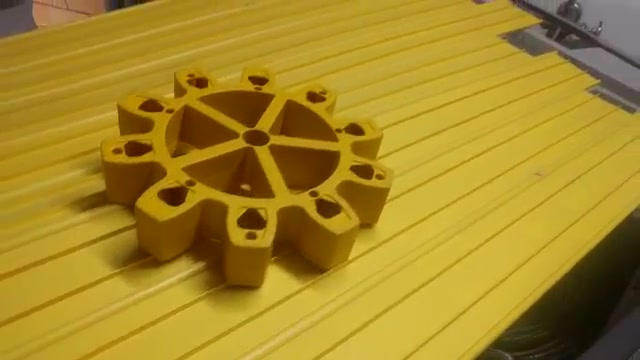gear: (88, 55, 401, 306)
